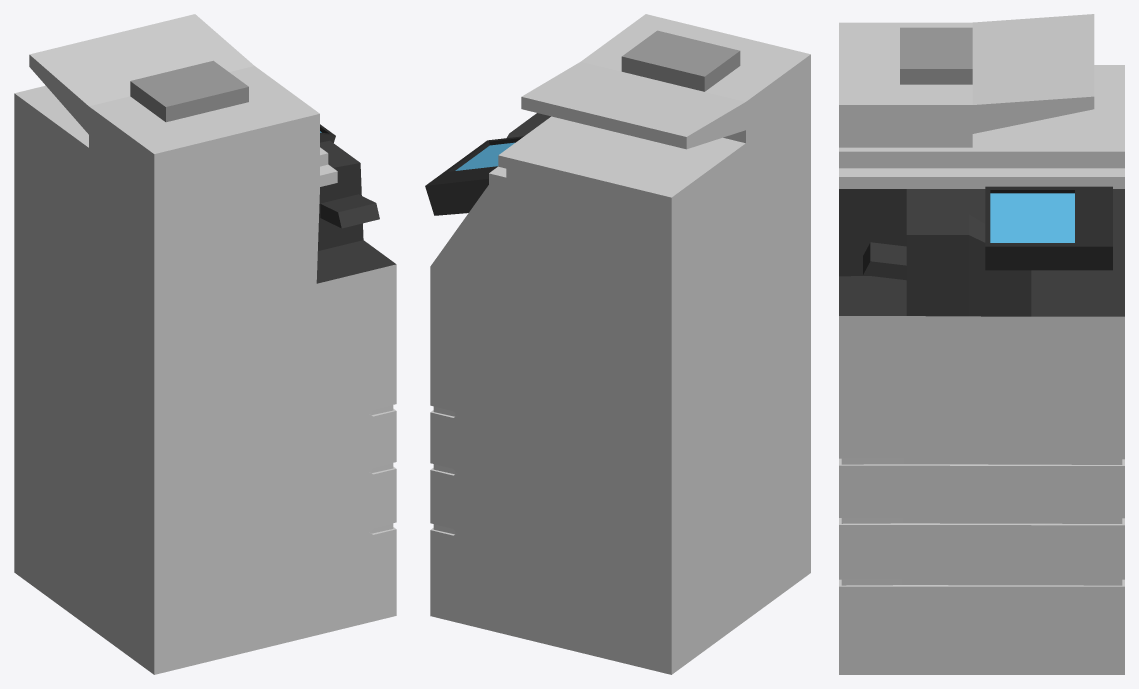
The model's file is printer.glb.
The picture shows the model from 3 angles, left to right: view 1: azimuth 30°, elevation 25°; view 2: azimuth 150°, elevation 25°; view 3: azimuth 270°, elevation 25°; orthographic projection. The views are drawn at different scales.
Parts seen in each view (by area): view 1: printer; view 2: printer; view 3: printer.
Part boxes in pixels (x1,y1,x2,y2): printer: (14,14,396,674); printer: (425,14,810,674); printer: (839,14,1124,674).
Bounding box in the file's own units: 0.6221 × 1.26 × 0.5951.
